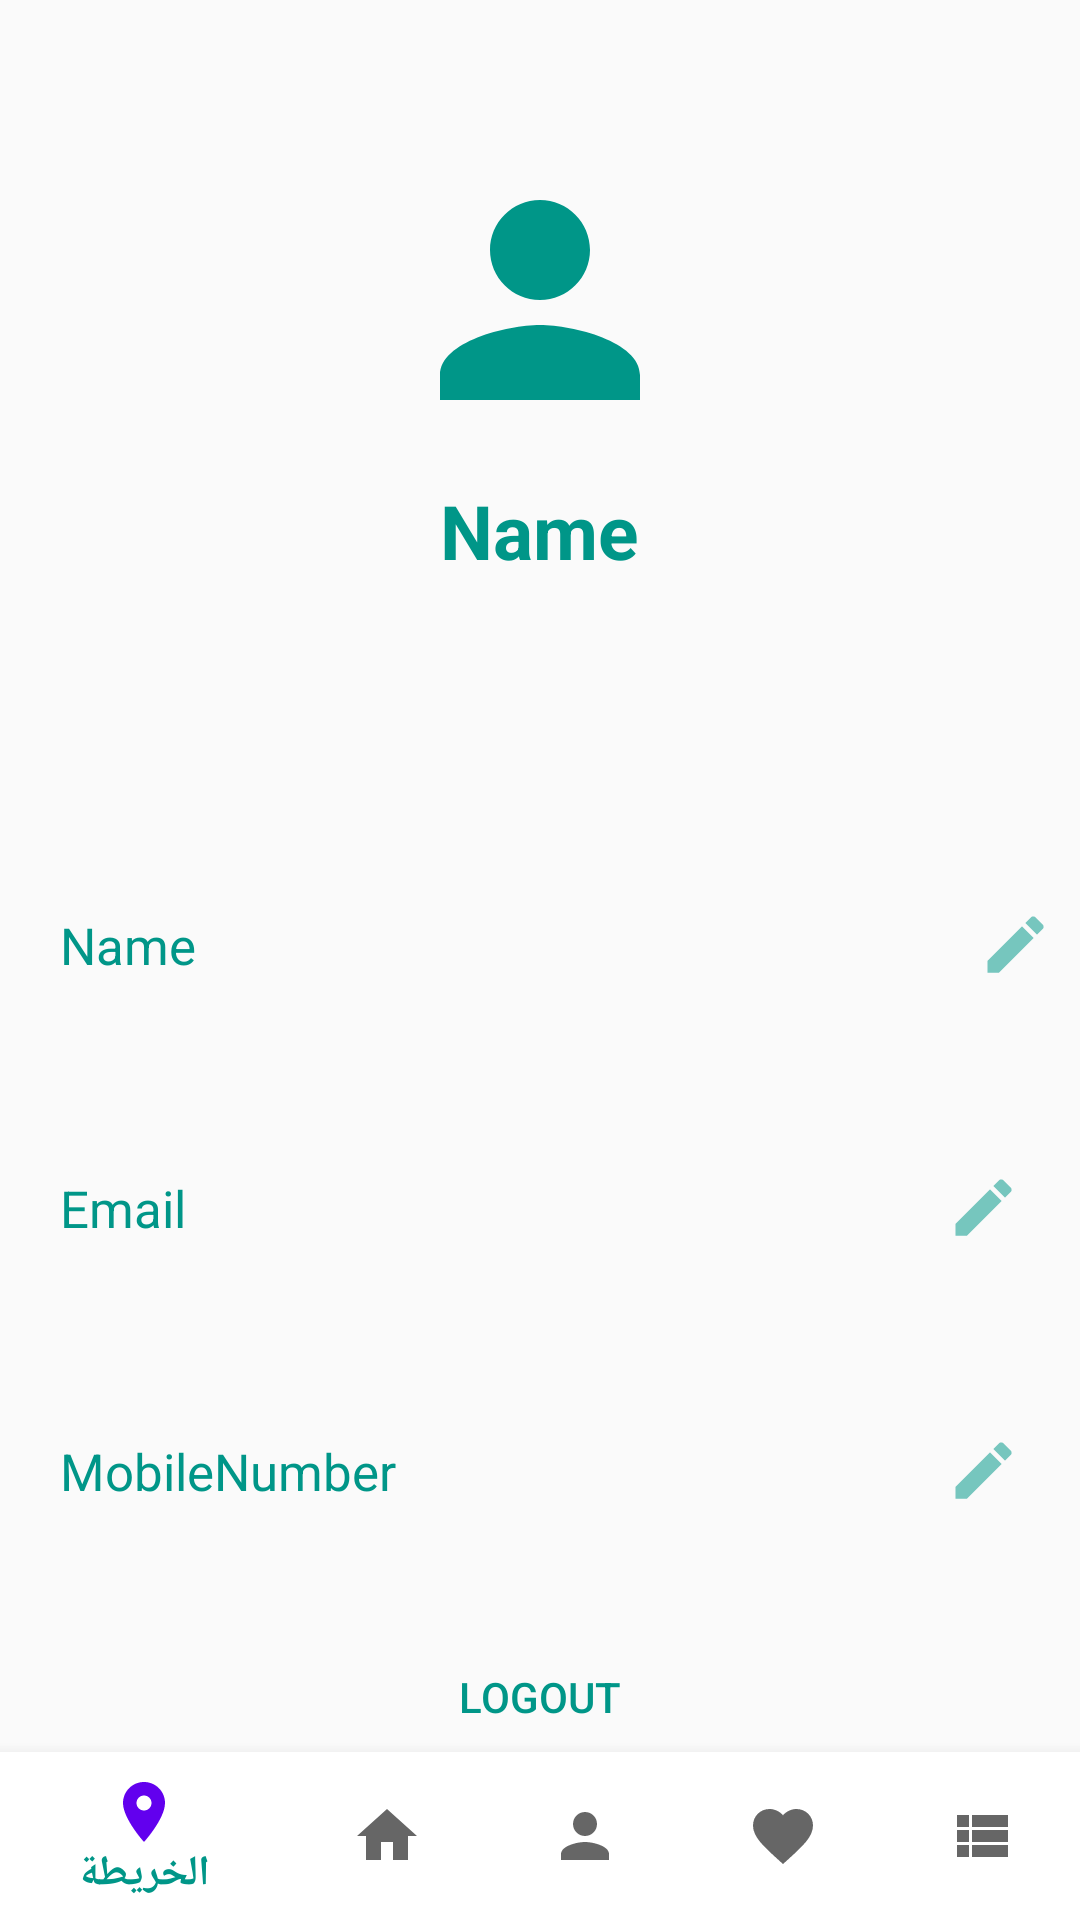

Where icons sit on this 1080*1920 app screen, as (left=x1, top=y1, right=x2, bottom=y2):
edit: (left=987, top=916, right=1044, bottom=973), (left=955, top=1179, right=1012, bottom=1236), (left=955, top=1442, right=1012, bottom=1499)
person: (left=440, top=200, right=640, bottom=400)
